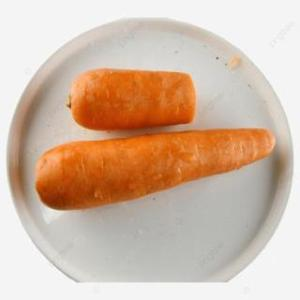carrot: (34, 127, 278, 214), (66, 68, 196, 128)
